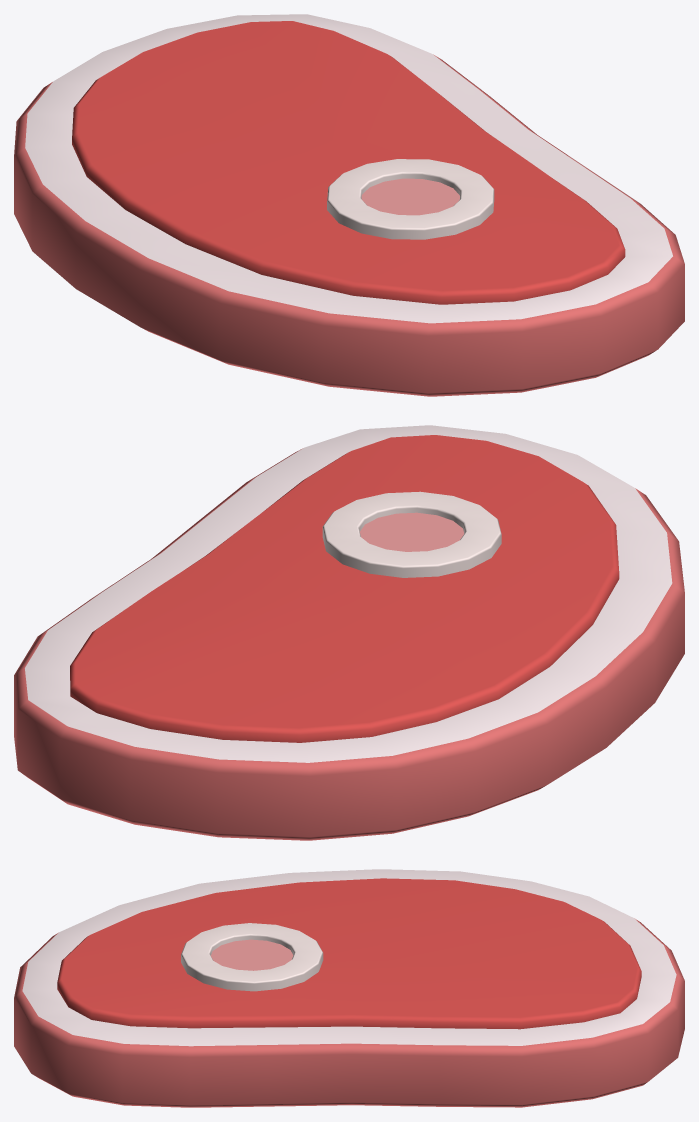
Rendered from Meat_Steak_1.fbx.
The picture shows the model from 3 angles, top to bottom: view 1: azimuth 30°, elevation 25°; view 2: azimuth 150°, elevation 25°; view 3: azimuth 270°, elevation 25°; orthographic projection. The views are drawn at different scales.
Parts seen in each view (by area): view 1: Meat_Steak_1; view 2: Meat_Steak_1; view 3: Meat_Steak_1.
Part boxes in pixels (x1,y1,x2,y2): Meat_Steak_1: (14,14,684,396); Meat_Steak_1: (14,425,684,840); Meat_Steak_1: (14,869,684,1107).
Bounding box in the file's own units: 24.62 × 6.17 × 37.68.
